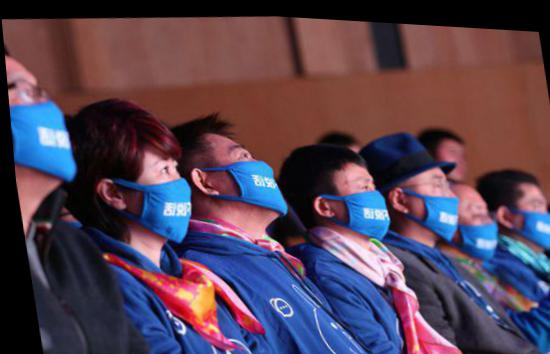OK: (5, 64, 76, 195), (100, 150, 194, 242), (198, 133, 286, 219), (314, 157, 390, 242), (444, 188, 498, 256), (498, 178, 550, 247)
WRONG: (395, 165, 460, 239)
